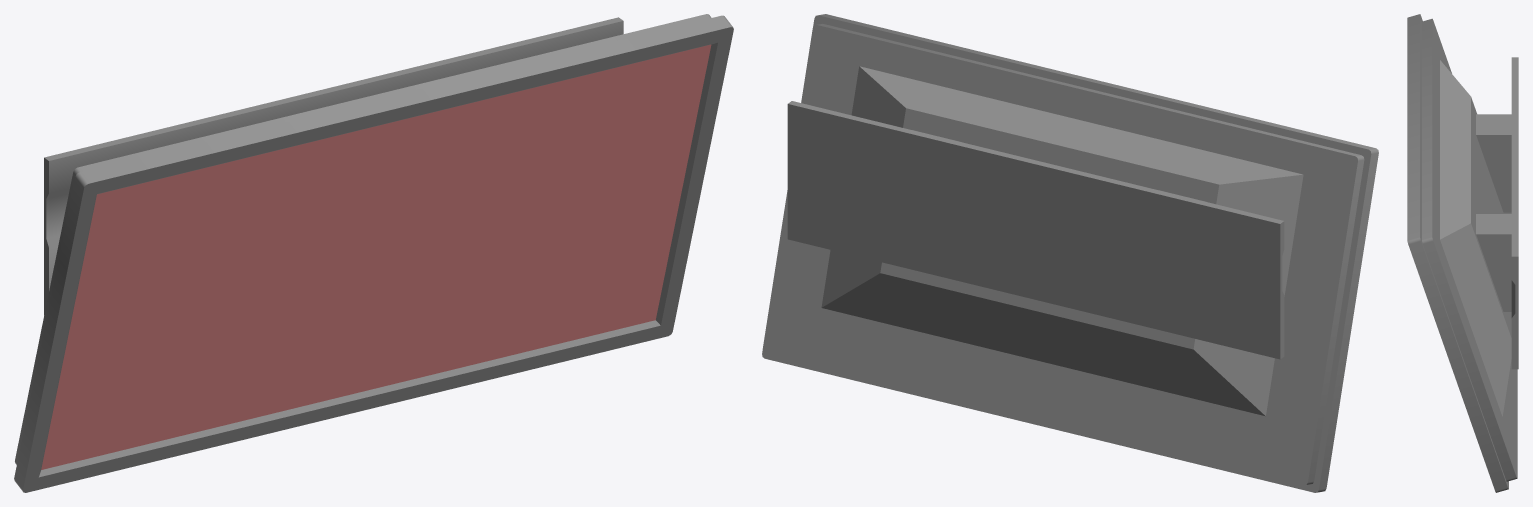
File: S_Envi_FZFBase_Screen_01g.gltf
3 renders of one model, left to right at view 1: azimuth 30°, elevation 25°; view 2: azimuth 150°, elevation 25°; view 3: azimuth 270°, elevation 25°, orthographic. The views are drawn at different scales.
Parts seen in each view (by area): view 1: S_Envi_FZFBase_Screen_01g; view 2: S_Envi_FZFBase_Screen_01g; view 3: S_Envi_FZFBase_Screen_01g.
Boxes of the visible parts, left/top/right/bottom form: S_Envi_FZFBase_Screen_01g: left=14, top=14, right=733, bottom=492; S_Envi_FZFBase_Screen_01g: left=762, top=14, right=1378, bottom=492; S_Envi_FZFBase_Screen_01g: left=1407, top=14, right=1518, bottom=492.
Bounding box in the file's own units: 8.32 × 4.4 × 1.74.
